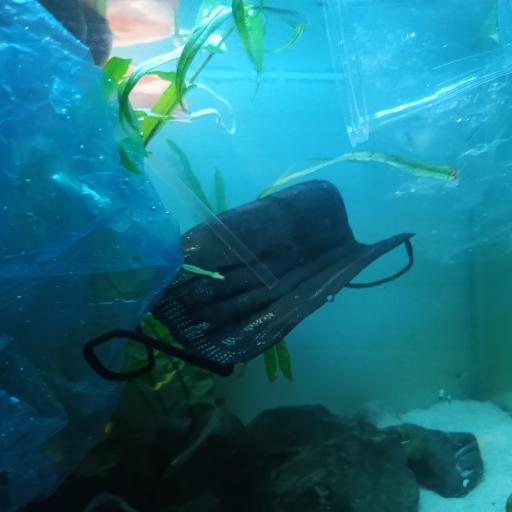mask: (89, 177, 418, 380), (116, 52, 240, 136)
plastic_bag: (0, 0, 184, 512), (341, 0, 512, 260)
plastic_cup: (321, 0, 512, 148)
plastic_straw: (146, 151, 281, 290)
